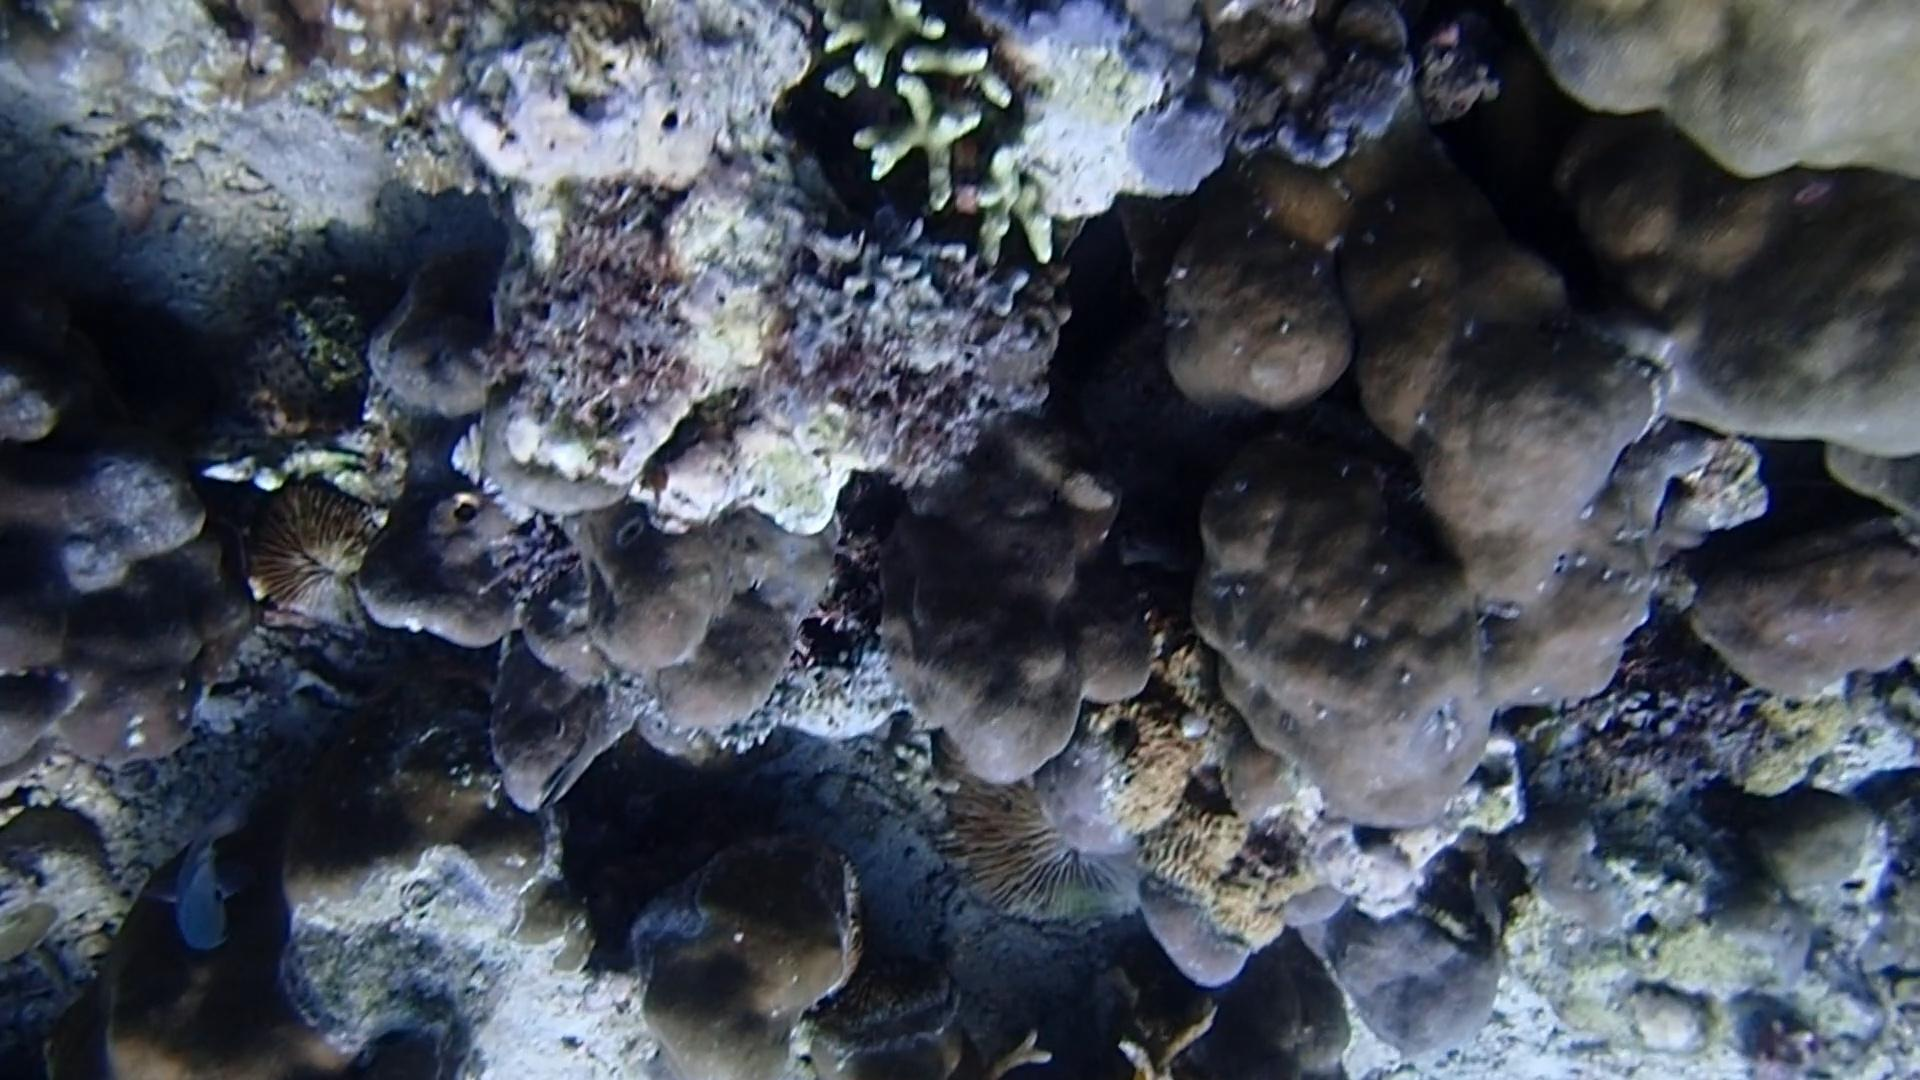Blue Fish Two: (148, 806, 252, 967)
